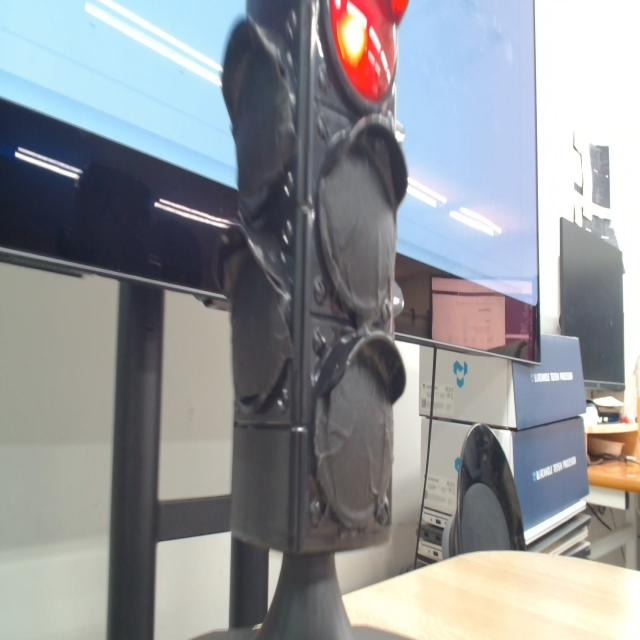red_light: (330, 0, 398, 103), (390, 0, 408, 23)
